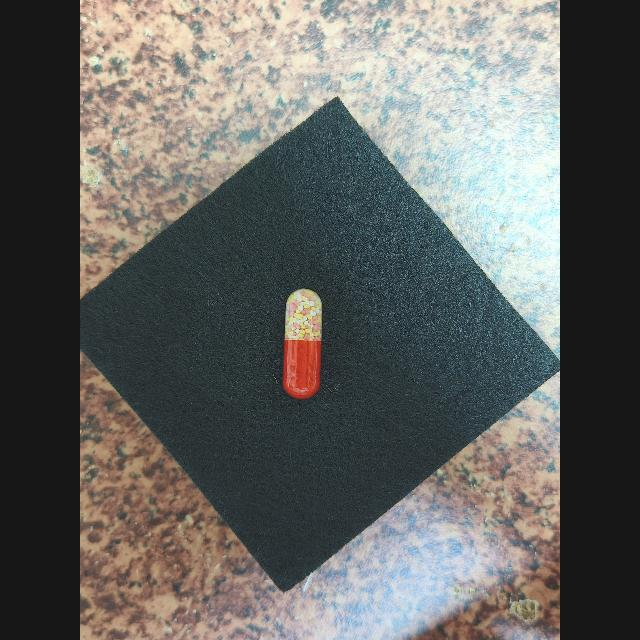Intact Capsule: (283, 288, 322, 399)
